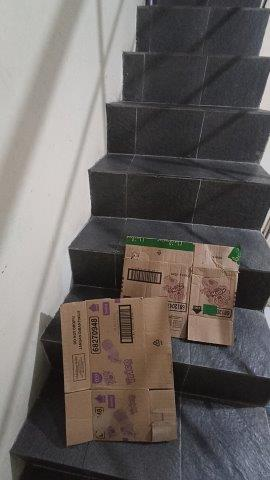kardus: (61, 299, 176, 444), (122, 238, 238, 342)
